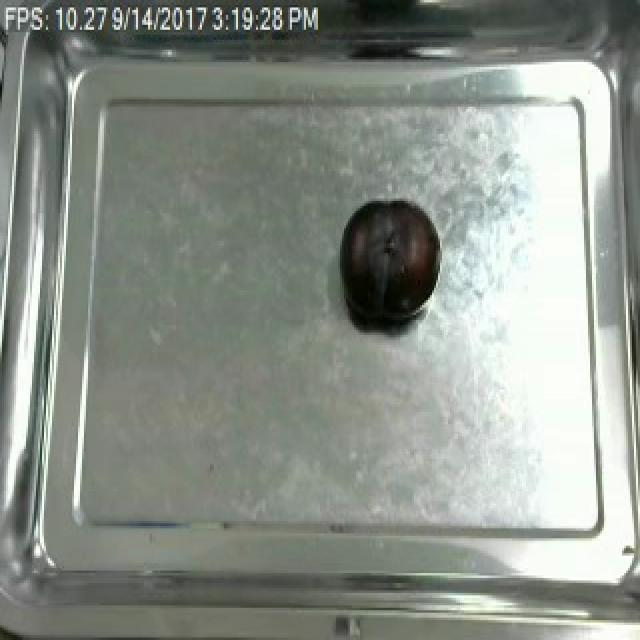Fruit: (334, 196, 442, 330)
